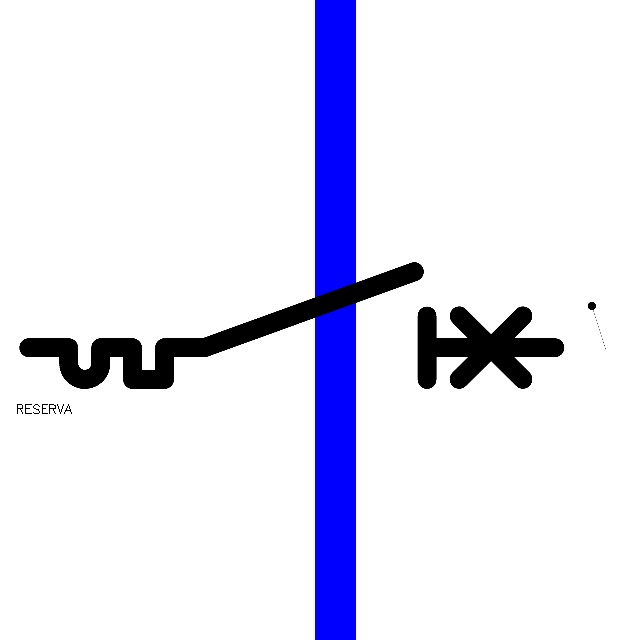interruptor_termomagnetico: (15, 258, 568, 393)
